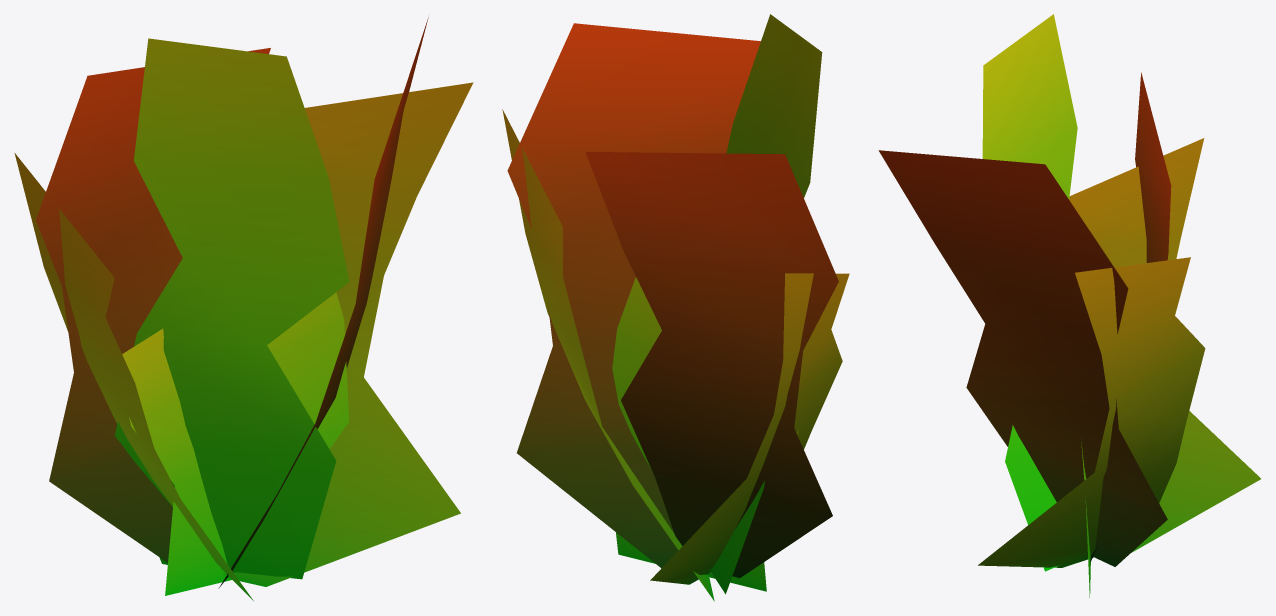
File: Var8Hi11.fbx
The picture shows the model from 3 angles, left to right: view 1: azimuth 30°, elevation 25°; view 2: azimuth 150°, elevation 25°; view 3: azimuth 270°, elevation 25°; orthographic projection. The views are drawn at different scales.
Parts seen in each view (by area): view 1: bend1; view 2: bend1; view 3: bend1.
Boxes of the visible parts, x1=… form: bend1: x1=14, y1=17, x2=473, y2=600; bend1: x1=502, y1=14, x2=849, y2=601; bend1: x1=878, y1=14, x2=1260, y2=597.
Bounding box in the file's own units: 1.27 × 1.76 × 1.21.
